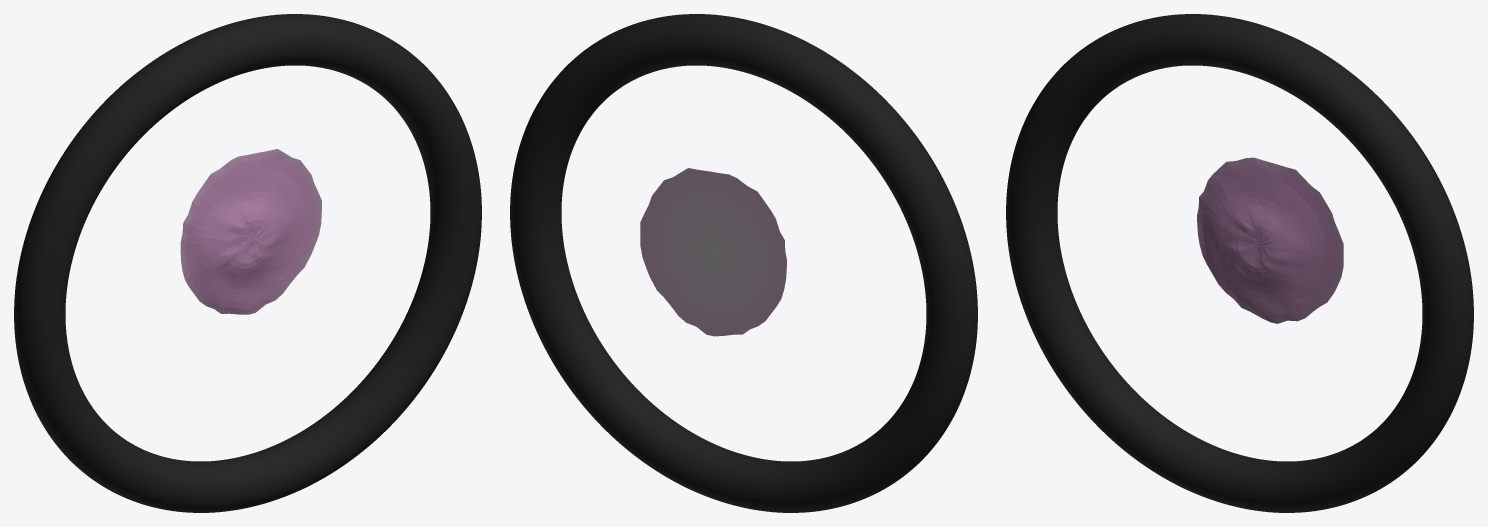
The model's file is FINAL012_with_Ring_m.glb.
3 renders of one model, left to right at view 1: azimuth 30°, elevation 25°; view 2: azimuth 150°, elevation 25°; view 3: azimuth 330°, elevation 25°, orthographic.
Parts seen in each view (by area): view 1: Ring_CAD, Polyp_FINAL012; view 2: Ring_CAD, Polyp_FINAL012; view 3: Ring_CAD, Polyp_FINAL012.
Boxes of the visible parts, x1=… form: Ring_CAD: x1=14, y1=14, x2=481, y2=512; Polyp_FINAL012: x1=180, y1=149, x2=321, y2=314; Ring_CAD: x1=510, y1=14, x2=977, y2=512; Polyp_FINAL012: x1=640, y1=168, x2=786, y2=336; Ring_CAD: x1=1006, y1=14, x2=1473, y2=512; Polyp_FINAL012: x1=1197, y1=157, x2=1343, y2=323.
Bounding box in the file's own units: 0.0124 × 0.0124 × 0.00132.
